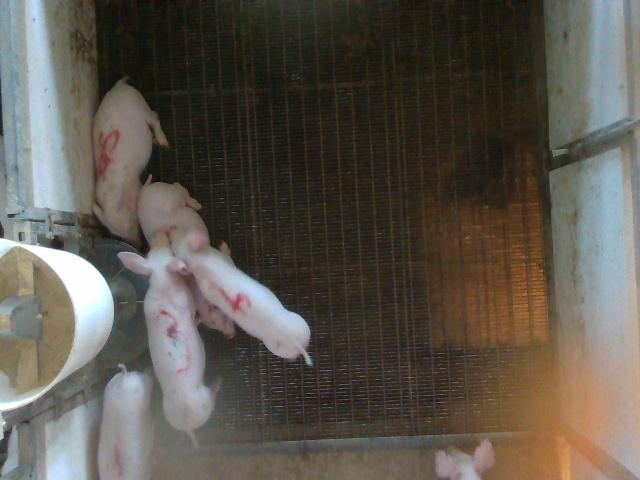pig-1: (98, 364, 154, 479)
pig-3: (120, 232, 215, 444)
pig-4: (170, 228, 311, 364)
pig-5: (92, 78, 169, 247)
